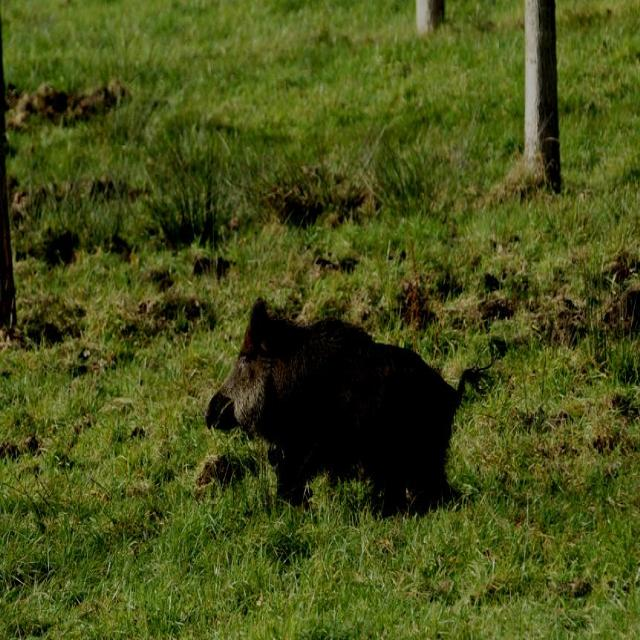pig: (206, 298, 482, 513)
